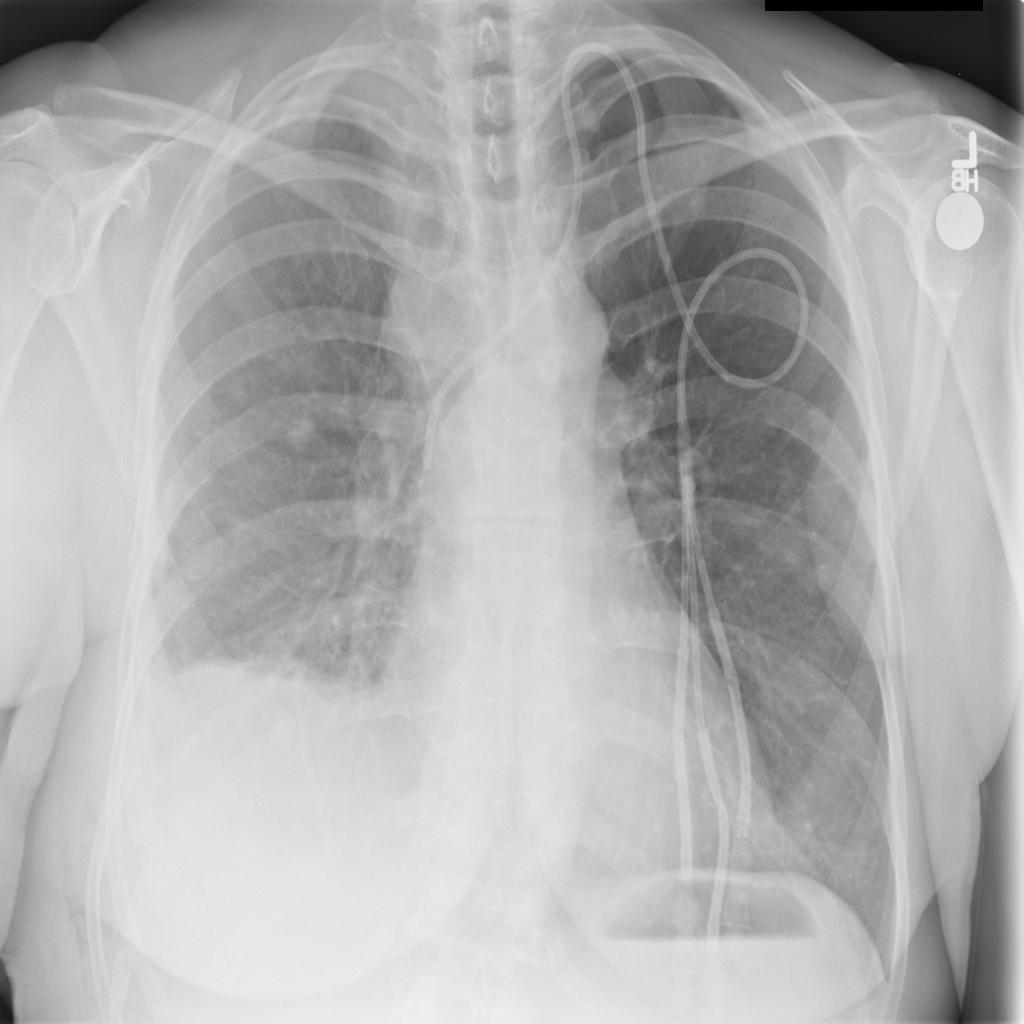nodule: (277, 402, 326, 456), (215, 359, 261, 416), (794, 388, 839, 443)
